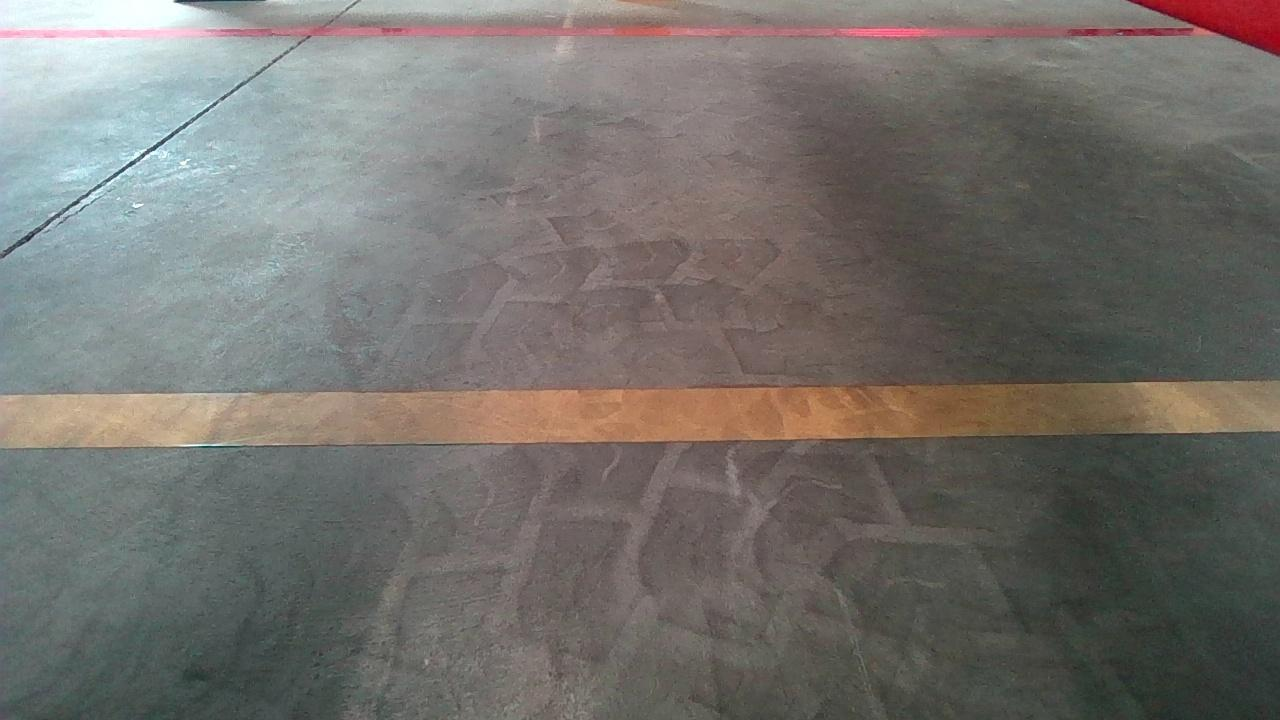red_line: (0, 27, 1211, 42)
yellow_line: (0, 378, 1273, 450)
